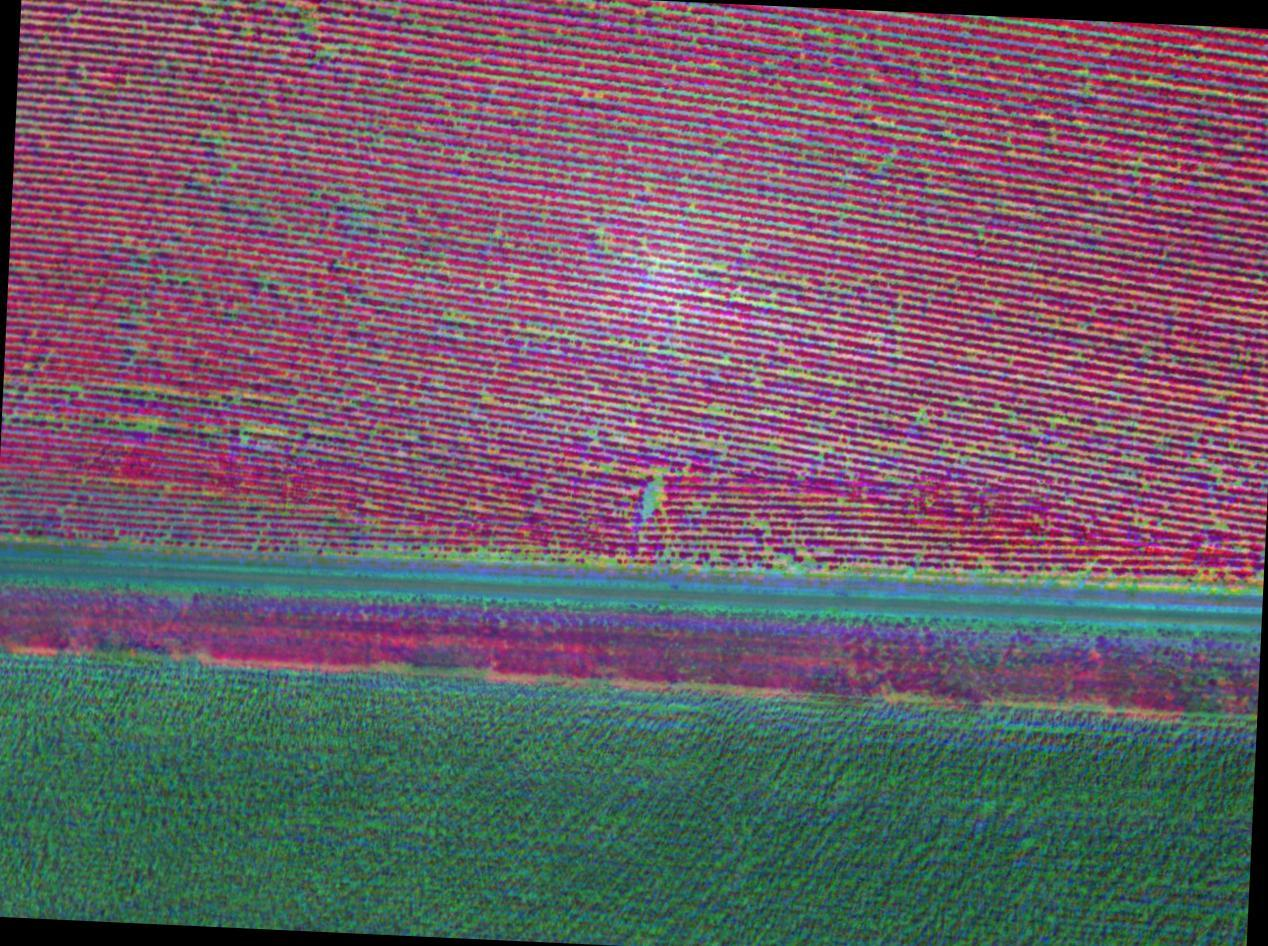dc: (142, 422, 147, 427), (649, 488, 653, 493), (646, 504, 651, 508), (422, 547, 426, 552), (605, 560, 610, 564), (610, 340, 614, 344), (713, 551, 717, 555), (449, 317, 451, 320)
